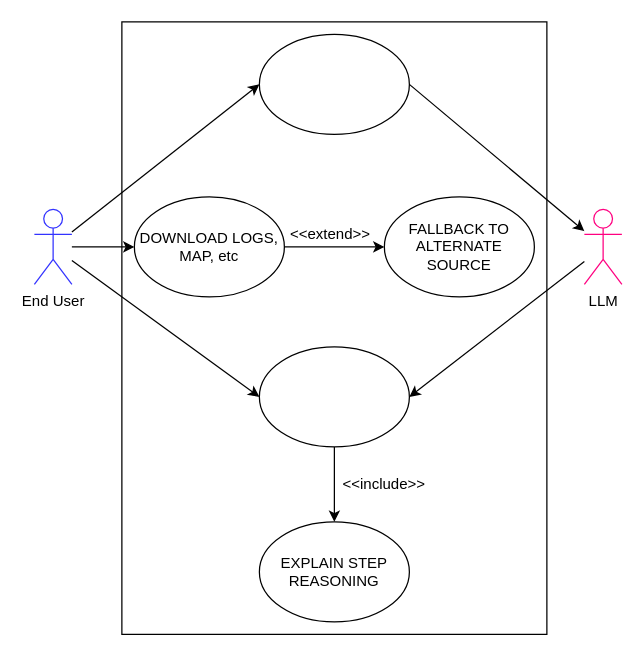
The diagram is 644 pixels wide and 656 high, and some of its shapes have lost their labels. The shapes that lost their labels are listed below. From the top down, each one's centre as x and y in pixels, then its label:
At pixel 333 83: "SUBMIT QUERIES".
At pixel 333 396: "CHAIN OF THOUGHT".
